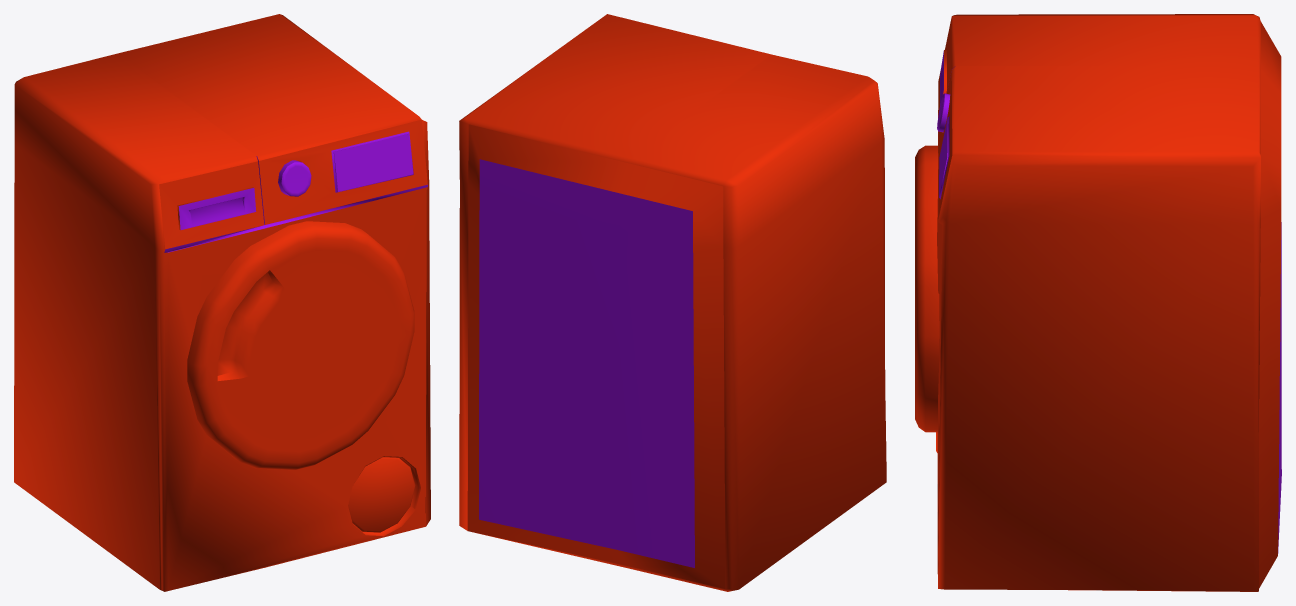
File: Droger.fbx
The picture shows the model from 3 angles, left to right: view 1: azimuth 30°, elevation 25°; view 2: azimuth 150°, elevation 25°; view 3: azimuth 270°, elevation 25°; orthographic projection. The views are drawn at different scales.
Visible parts, largest first — view 1: Droger.001; view 2: Droger.001; view 3: Droger.001.
Boxes of the visible parts, x1,y1,x2,y2 form: Droger.001: (14, 14, 430, 591); Droger.001: (459, 14, 886, 591); Droger.001: (915, 14, 1281, 591).
Size of the model in its own units: 59.8 by 84.5 by 63.6.
